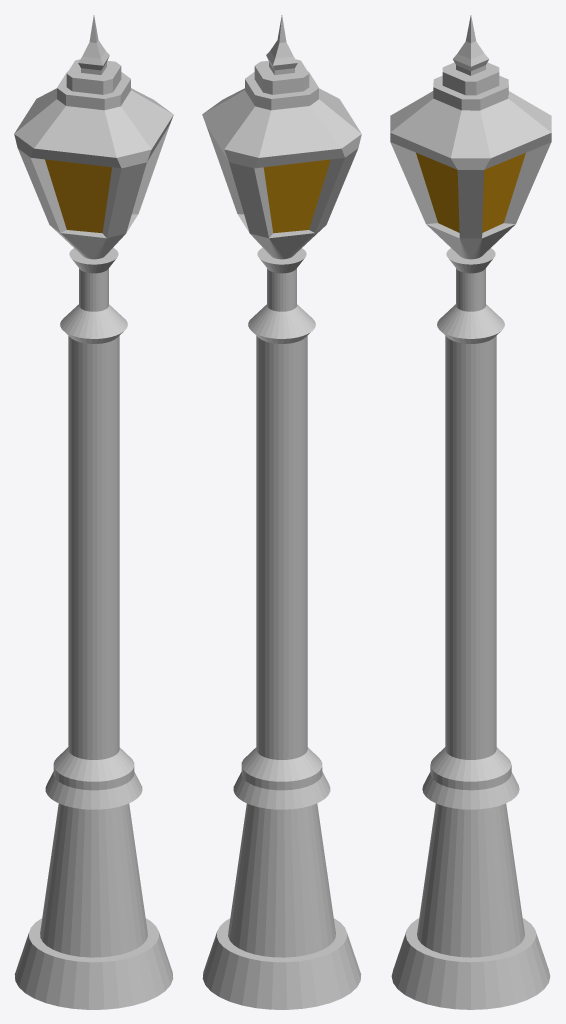
File: lantern.obj
The picture shows the model from 3 angles, left to right: view 1: azimuth 30°, elevation 25°; view 2: azimuth 150°, elevation 25°; view 3: azimuth 270°, elevation 25°; orthographic projection.
Parts seen in each view (by area): view 1: Cylinder; view 2: Cylinder; view 3: Cylinder.
Part boxes in pixels (x1,y1,x2,y2): Cylinder: (14, 15, 173, 1009); Cylinder: (202, 15, 361, 1009); Cylinder: (390, 15, 551, 1009).
Size of the model in its own units: 0.7115 by 4.68 by 0.7115.
